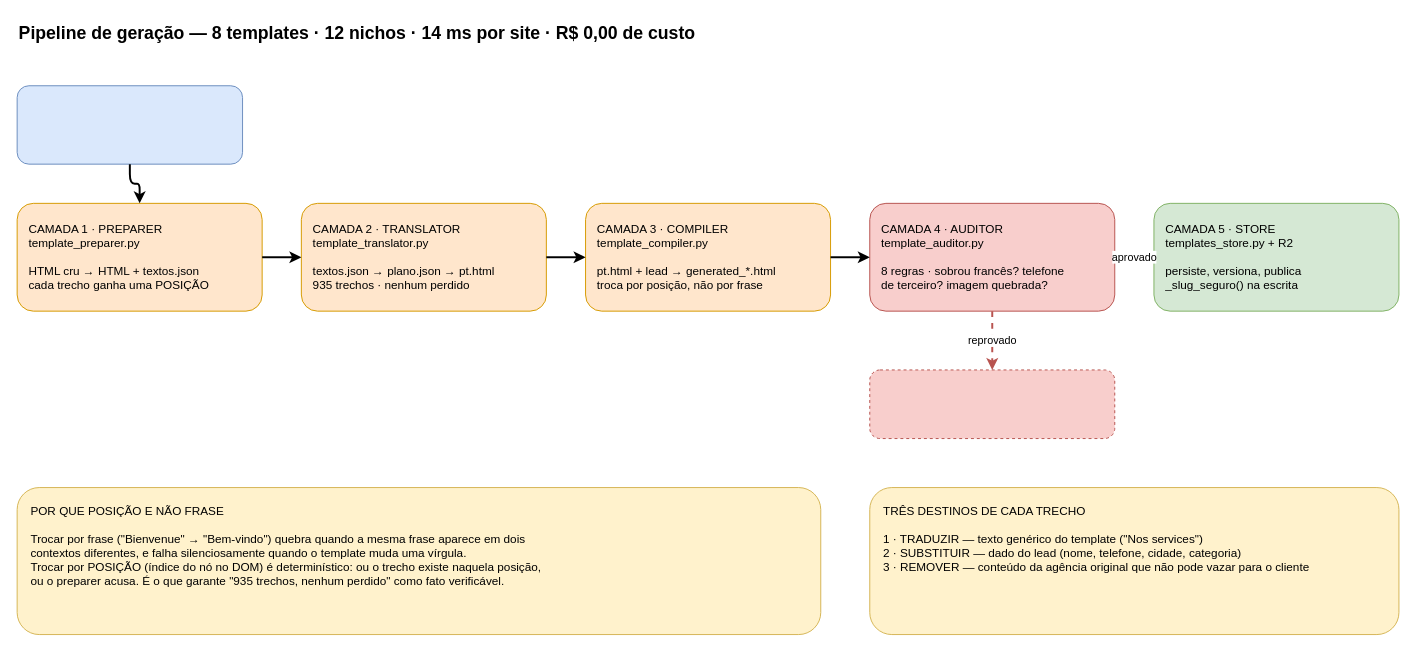
The diagram is 1416 pixels wide and 652 high, and some of its shapes have lost their labels. The shapes that lost their labels are listed below. From the top down, each one's centre as x and y in pixels, then its label:
pixel 129 124: ENTRADA lead do Google Places (nome, categoria, cidade, telefone)
pixel 992 404: REPROVADO → site NÃO é entregue o auditor é a última porta antes do cliente ver
